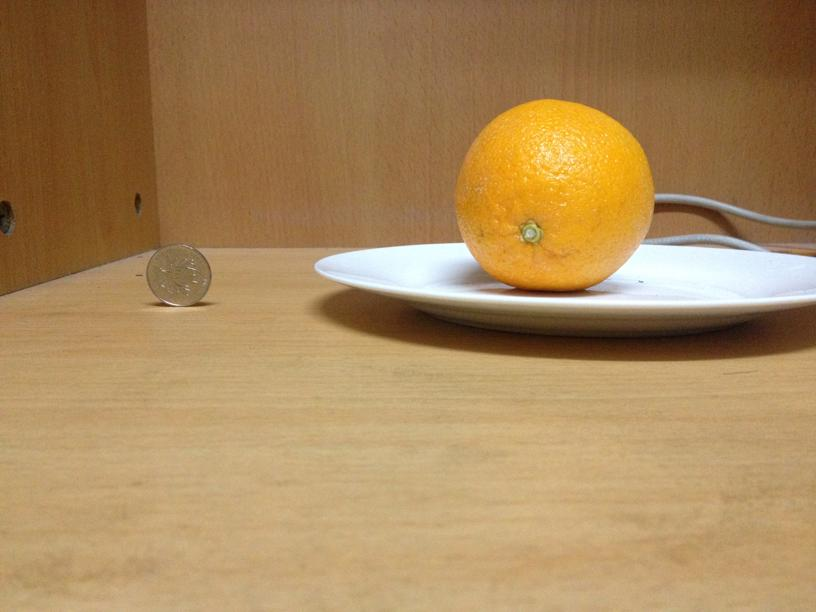coin: (147, 245, 211, 305)
orange: (457, 96, 653, 289)
